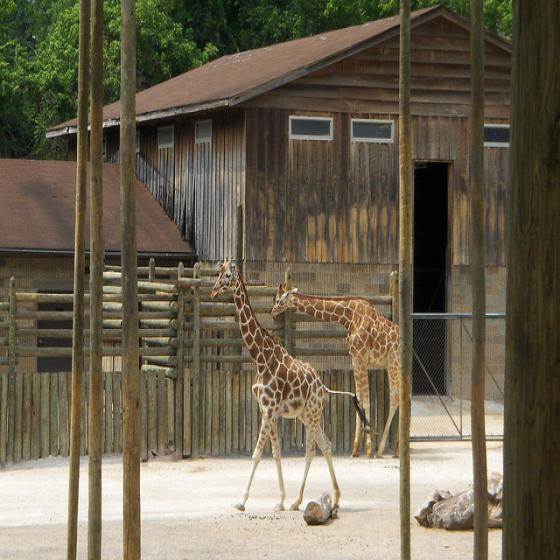giraffe: (208, 251, 376, 522), (269, 285, 401, 460)
